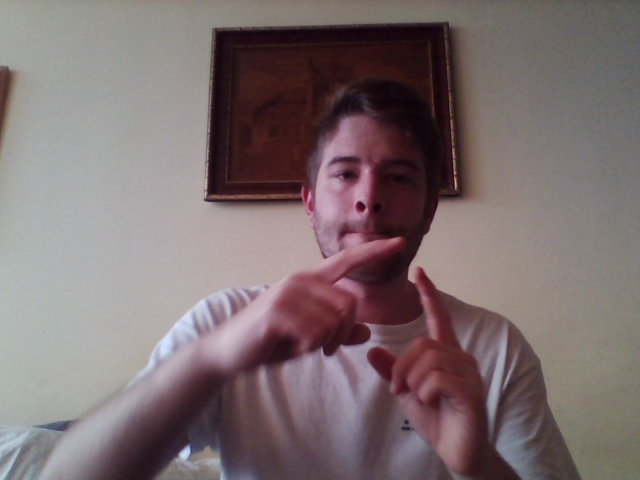kad: (219, 235, 496, 465)
